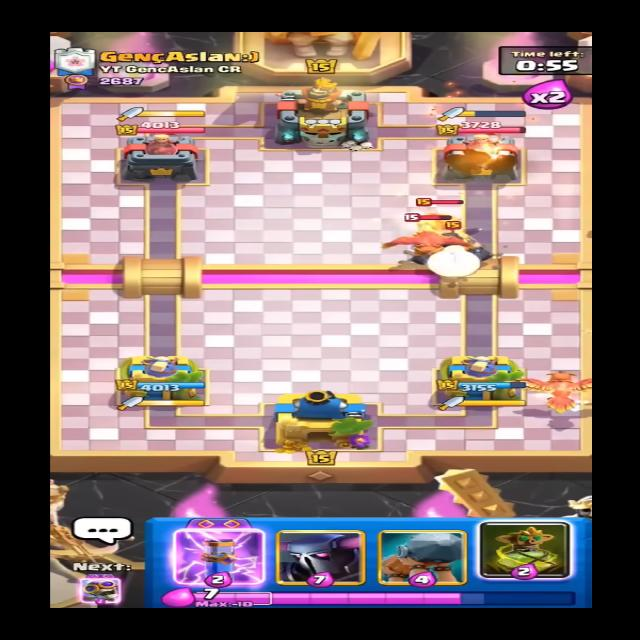Megaknight: (402, 228, 498, 269)
Pheonix: (361, 215, 484, 264)
